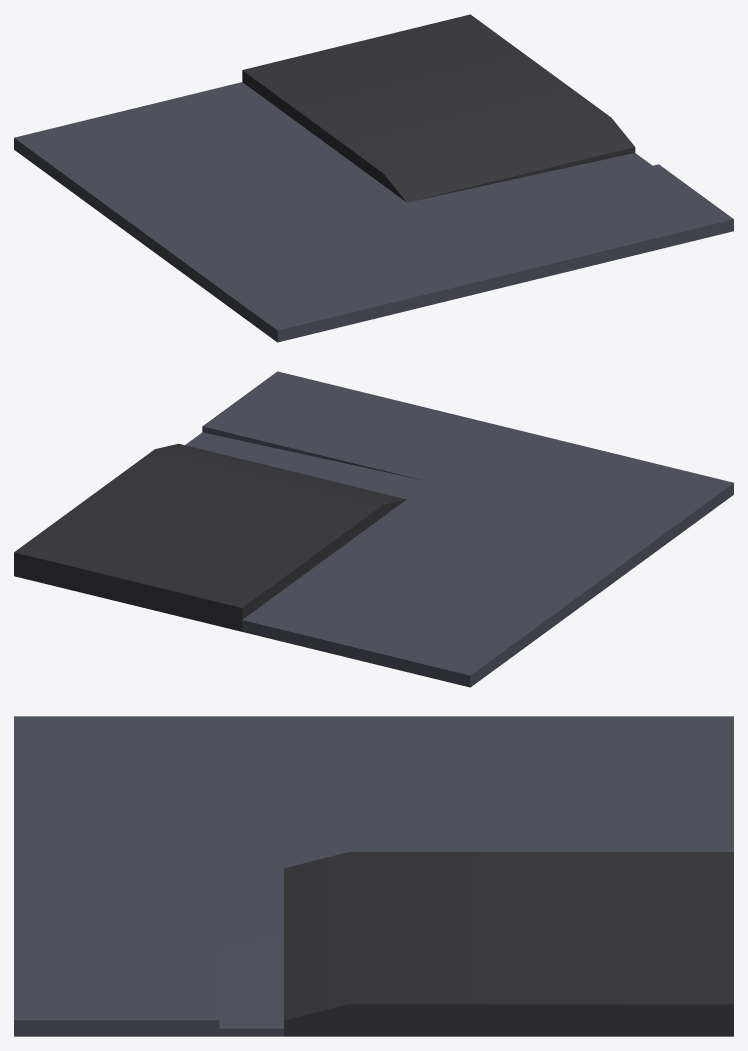
Rendered from road-curb-end.glb.
3 views of the same model, one above another, from view 1: azimuth 30°, elevation 25°; view 2: azimuth 150°, elevation 25°; view 3: azimuth 270°, elevation 25° (orthographic). The views are drawn at different scales.
Visible parts, largest first — view 1: road-curb-end; view 2: road-curb-end; view 3: road-curb-end.
Part boxes in pixels (x1,y1,x2,y2): road-curb-end: (14, 14, 733, 342); road-curb-end: (14, 371, 733, 687); road-curb-end: (14, 716, 733, 1036).
Size of the model in its own units: 1 by 0.05 by 1.
Materials: 1 (1 with a texture image).
